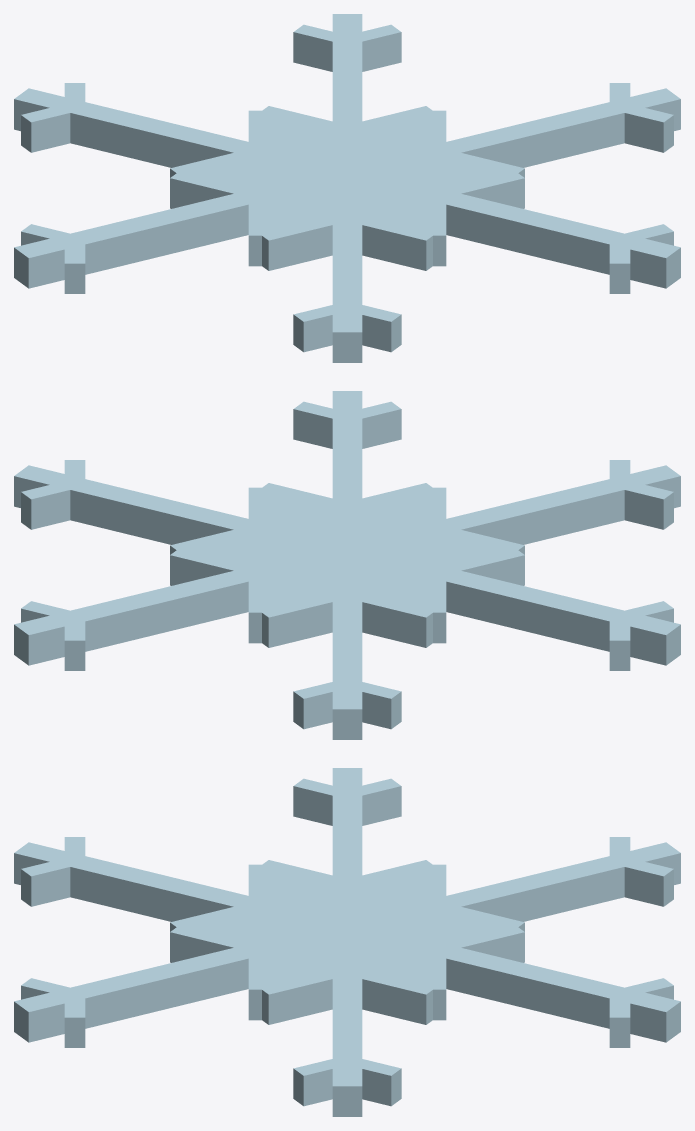
The model's file is NEW_RECOVERY_071_LOD2.glb.
The picture shows the model from 3 angles, top to bottom: view 1: azimuth 30°, elevation 25°; view 2: azimuth 150°, elevation 25°; view 3: azimuth 270°, elevation 25°; orthographic projection.
Visible parts, largest first — view 1: Snowflake_solid; view 2: Snowflake_solid; view 3: Snowflake_solid.
Part boxes in pixels (bbox=[...]): Snowflake_solid: bbox=[14, 14, 680, 362]; Snowflake_solid: bbox=[14, 391, 680, 739]; Snowflake_solid: bbox=[14, 768, 680, 1116].
Size of the model in its own units: 2.8 by 0.125 by 2.48.
